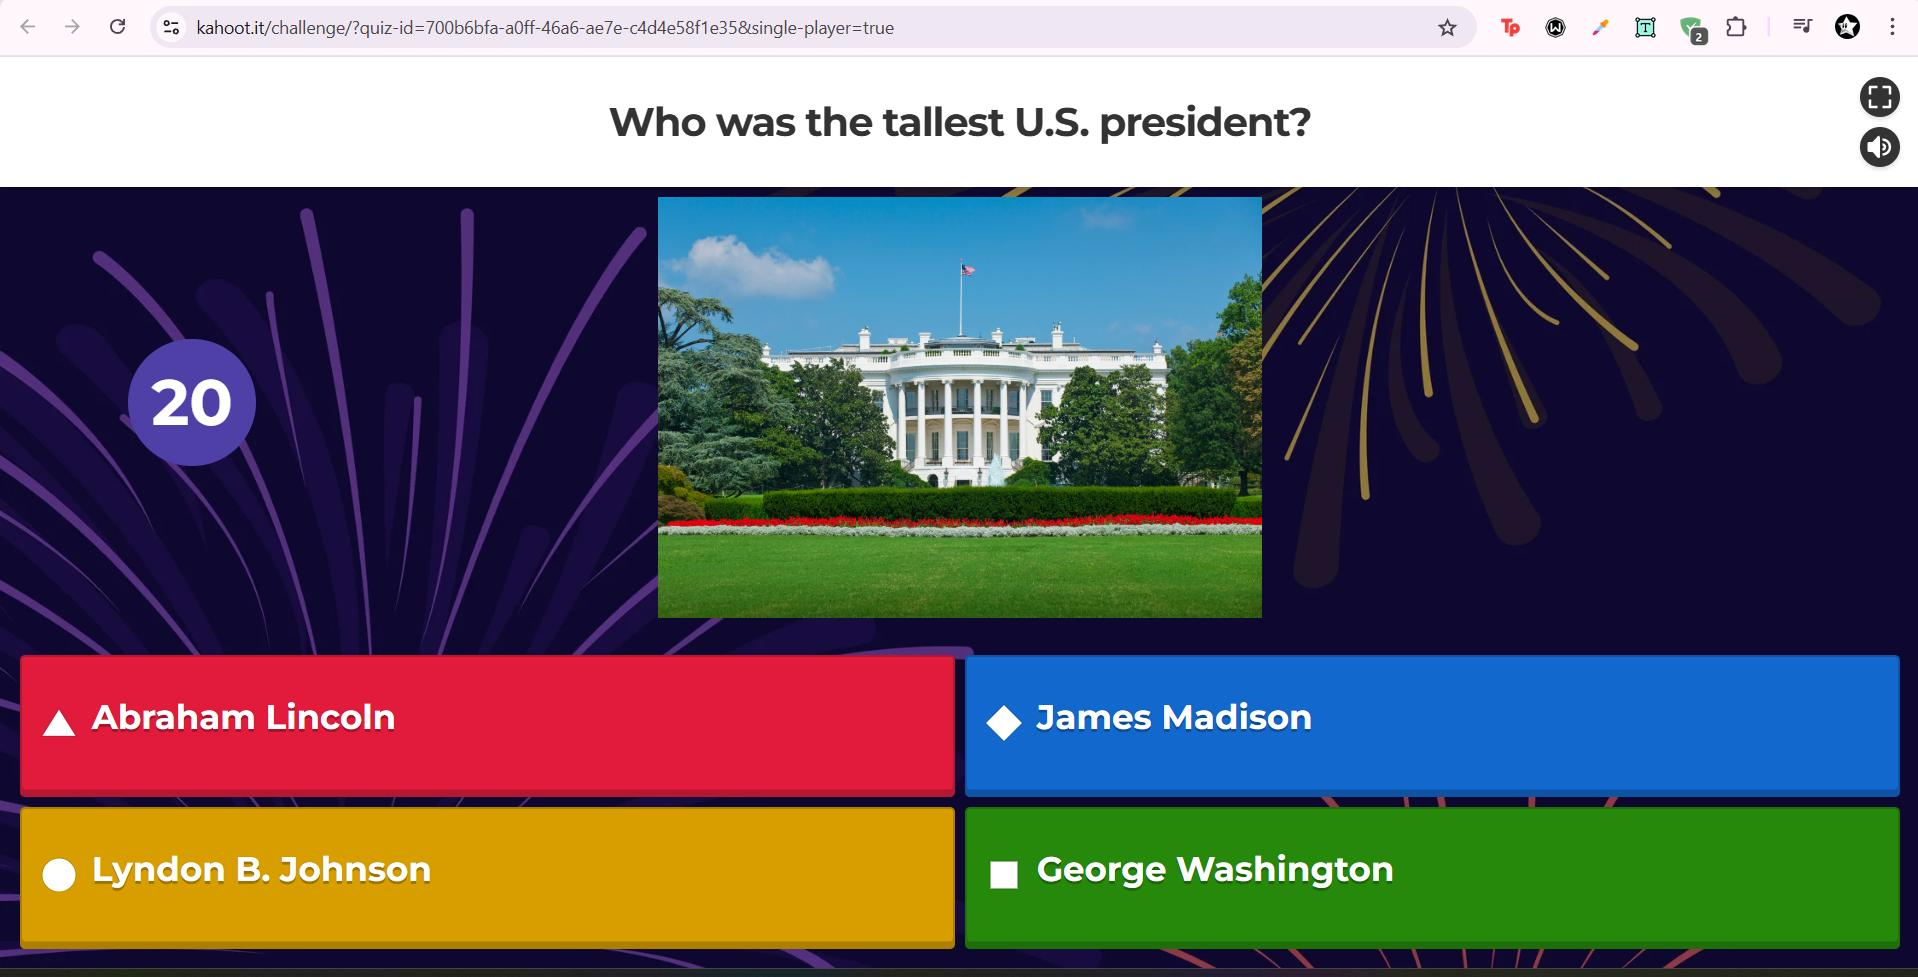answer_blue: (966, 662, 1899, 793)
answer_green: (969, 811, 1898, 946)
answer_red: (21, 659, 958, 795)
answer_yellow: (21, 810, 952, 950)
question_box: (4, 56, 1820, 186)
